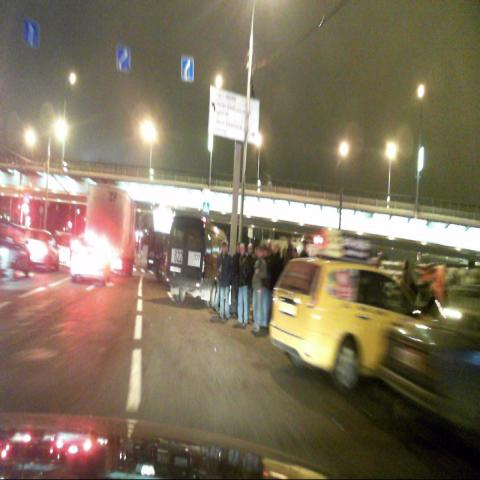5_15_2: (116, 46, 130, 73), (23, 20, 38, 45), (181, 58, 194, 81)
5_19_1: (203, 202, 209, 214)
